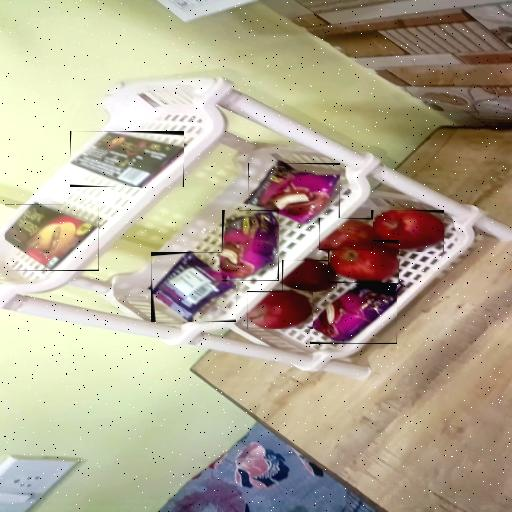Apple: (371, 210, 444, 252), (328, 240, 399, 283), (247, 291, 313, 329), (282, 260, 337, 292), (319, 218, 373, 250)
Choco Fills: (70, 131, 184, 187), (6, 204, 100, 271)
Choco Pie: (151, 252, 236, 322), (248, 163, 340, 225), (310, 282, 397, 344), (222, 210, 279, 281)
